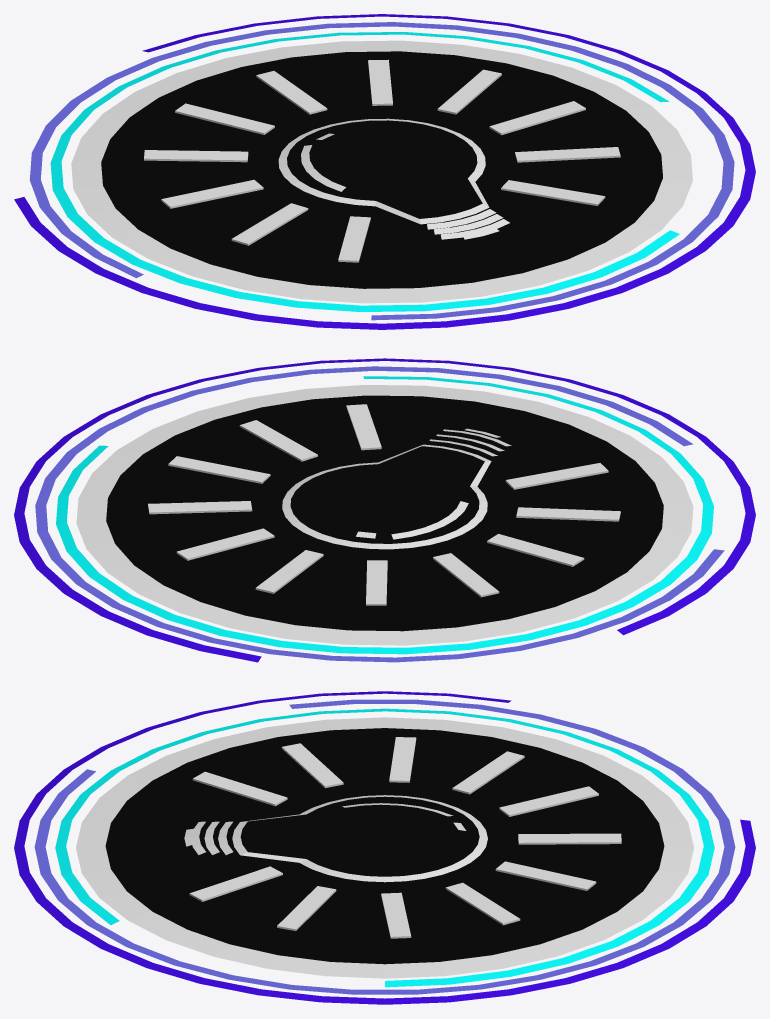
The model's file is info.fbx.
The picture shows the model from 3 angles, top to bottom: view 1: azimuth 30°, elevation 25°; view 2: azimuth 150°, elevation 25°; view 3: azimuth 270°, elevation 25°; orthographic projection.
Visible parts, largest first — view 1: Cylindre.001, Cylindre, Cube, Cylindre.004, Cylindre.003, Cylindre.002; view 2: Cylindre.001, Cylindre, Cube, Cylindre.004, Cylindre.002, Cylindre.003; view 3: Cylindre.001, Cylindre, Cube, Cylindre.004, Cylindre.003, Cylindre.002.
Part boxes in pixels (x1=…): Cylindre.001: x1=71, y1=40, x2=692, y2=303; Cylindre: x1=278, y1=118, x2=509, y2=239; Cube: x1=144, y1=59, x2=620, y2=262; Cylindre.004: x1=29, y1=22, x2=734, y2=320; Cylindre.003: x1=14, y1=14, x2=755, y2=329; Cylindre.002: x1=50, y1=32, x2=679, y2=311; Cylindre.001: x1=76, y1=385, x2=693, y2=645; Cylindre: x1=282, y1=428, x2=511, y2=549; Cube: x1=148, y1=404, x2=620, y2=605; Cylindre.004: x1=35, y1=366, x2=724, y2=662; Cylindre.002: x1=56, y1=376, x2=713, y2=654; Cylindre.003: x1=14, y1=358, x2=755, y2=662; Cylindre.001: x1=76, y1=717, x2=693, y2=978; Cylindre: x1=184, y1=795, x2=487, y2=882; Cube: x1=189, y1=737, x2=621, y2=938; Cylindre.004: x1=34, y1=699, x2=735, y2=994; Cylindre.003: x1=14, y1=691, x2=755, y2=1004; Cylindre.002: x1=55, y1=708, x2=714, y2=987.
Bounding box in the file's own units: 720 × 14 × 720.
